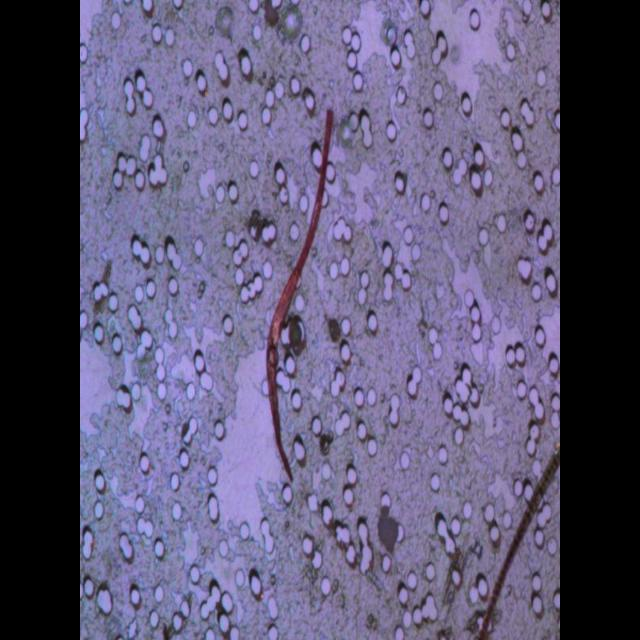Fibre: (250, 105, 342, 499), (472, 434, 560, 640)
